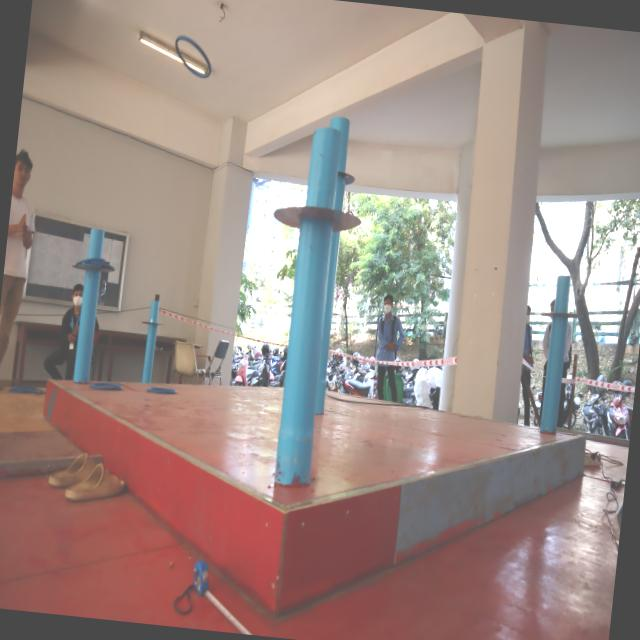pole: (262, 122, 366, 287), (68, 224, 117, 310), (534, 267, 580, 346), (128, 288, 176, 348)
